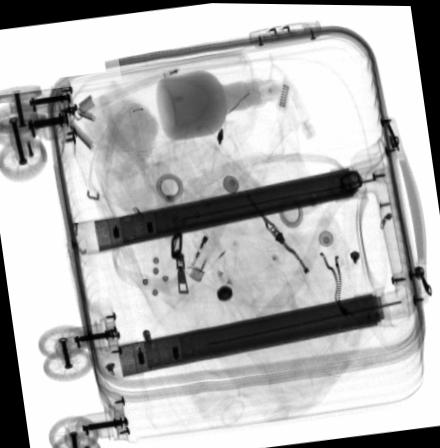Lighter: (181, 203, 228, 282)
